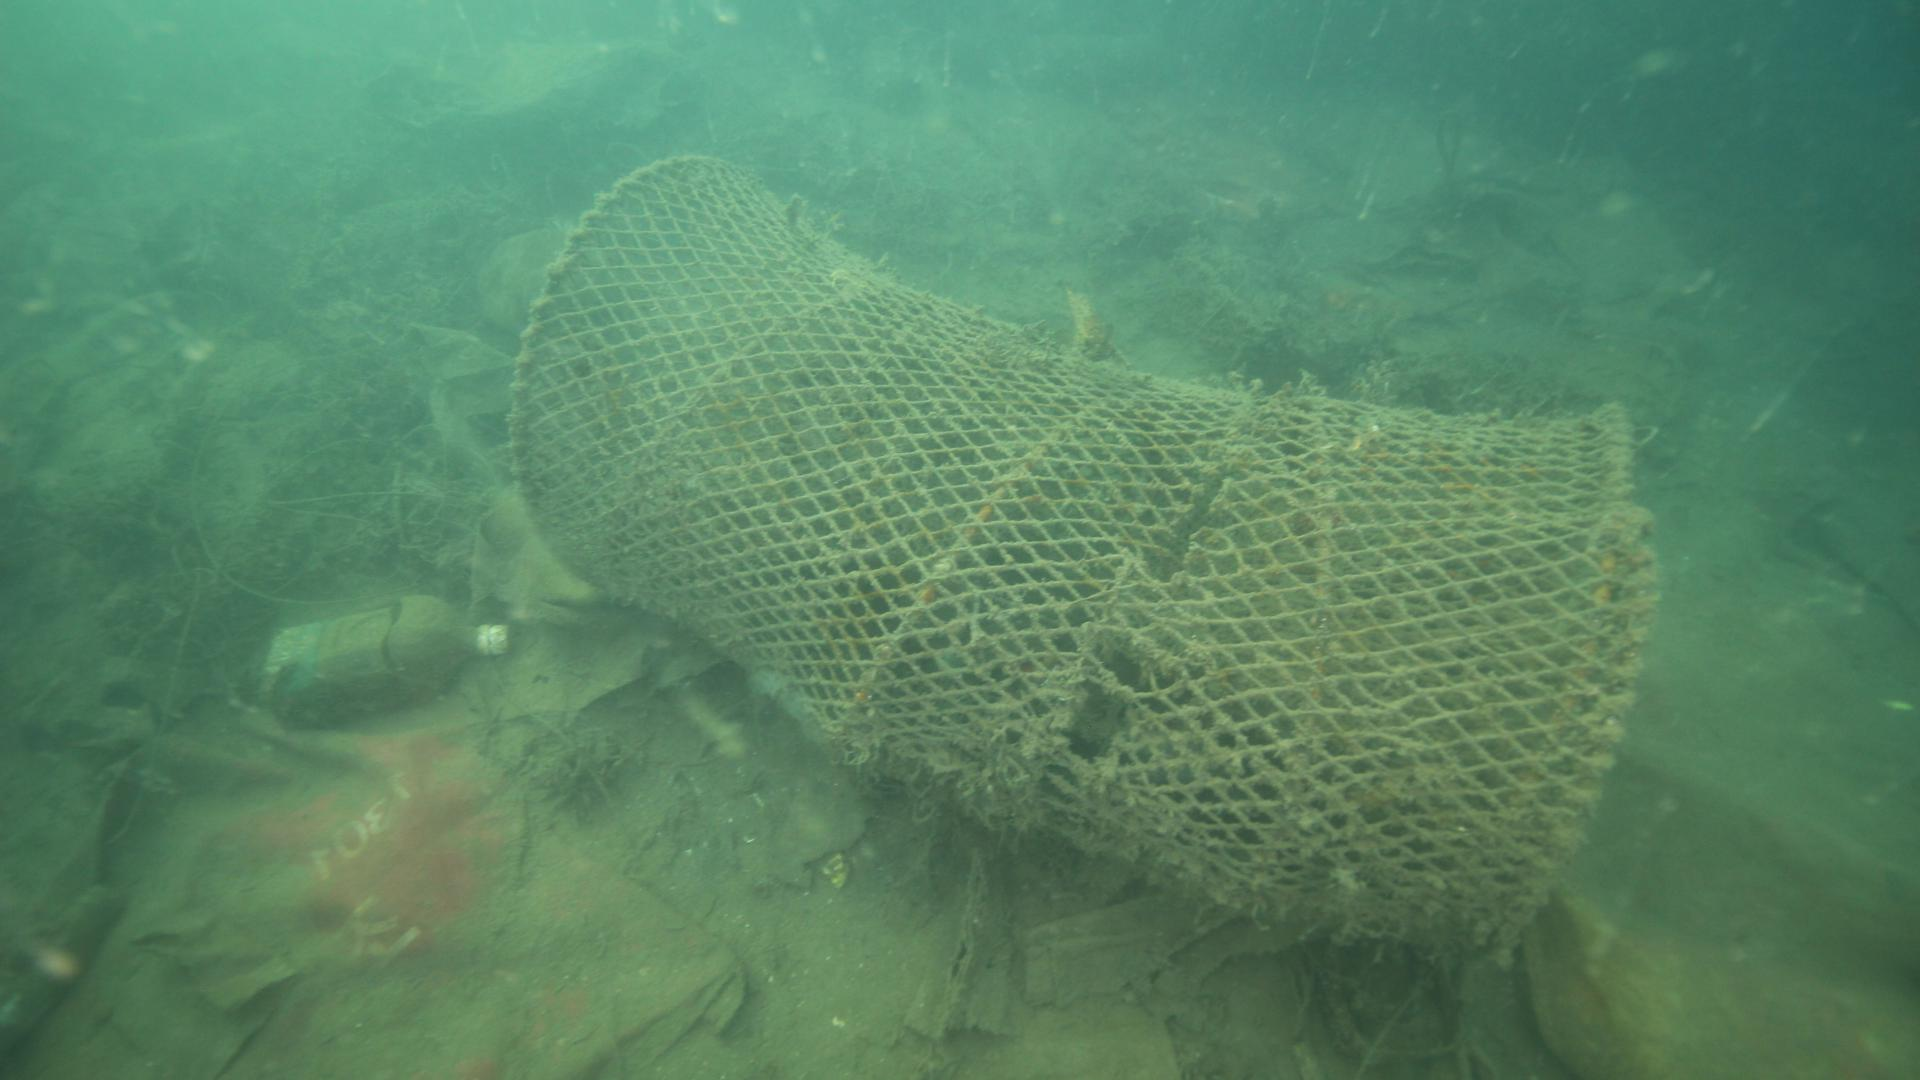spring fish trap: (498, 150, 1658, 963)
